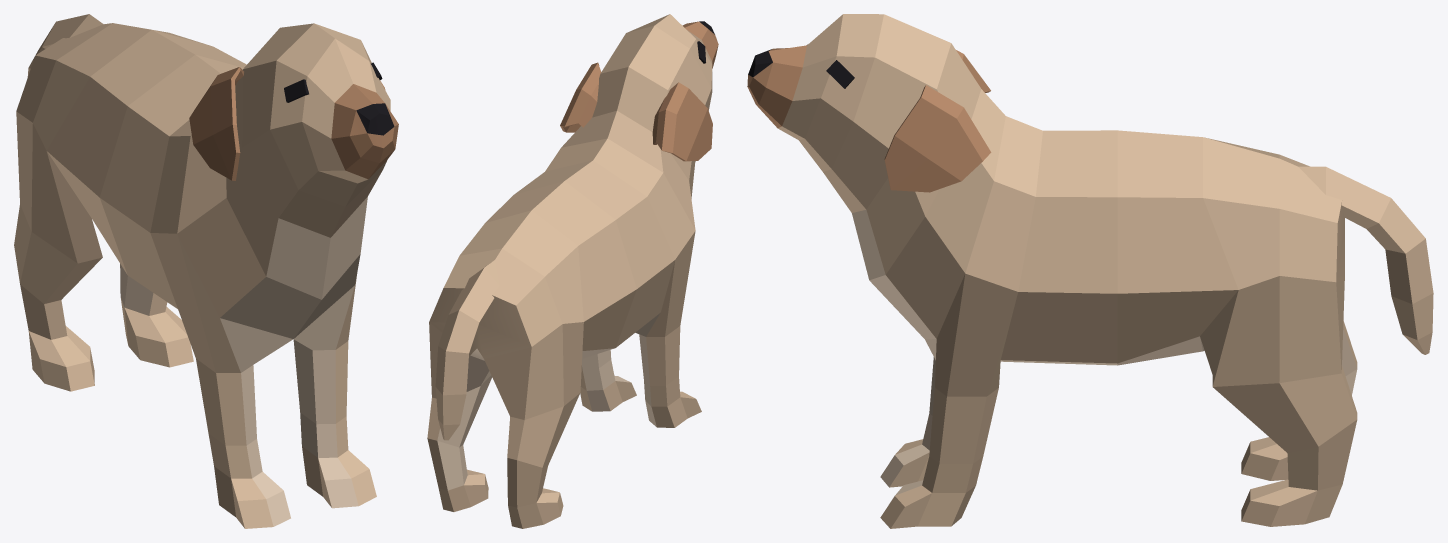
The model's file is Mesh_Puppy.obj.
3 renders of one model, left to right at view 1: azimuth 30°, elevation 25°; view 2: azimuth 150°, elevation 25°; view 3: azimuth 270°, elevation 25°, orthographic. The views are drawn at different scales.
Visible parts, largest first — view 1: Geo_Puppy; view 2: Geo_Puppy; view 3: Geo_Puppy.
Boxes of the visible parts, x1=… form: Geo_Puppy: x1=14, y1=14, x2=398, y2=528; Geo_Puppy: x1=427, y1=14, x2=718, y2=528; Geo_Puppy: x1=747, y1=14, x2=1433, y2=528.
Bounding box in the file's own units: 24.6 × 60.46 × 77.78.
Materials: 1 (1 with a texture image).
